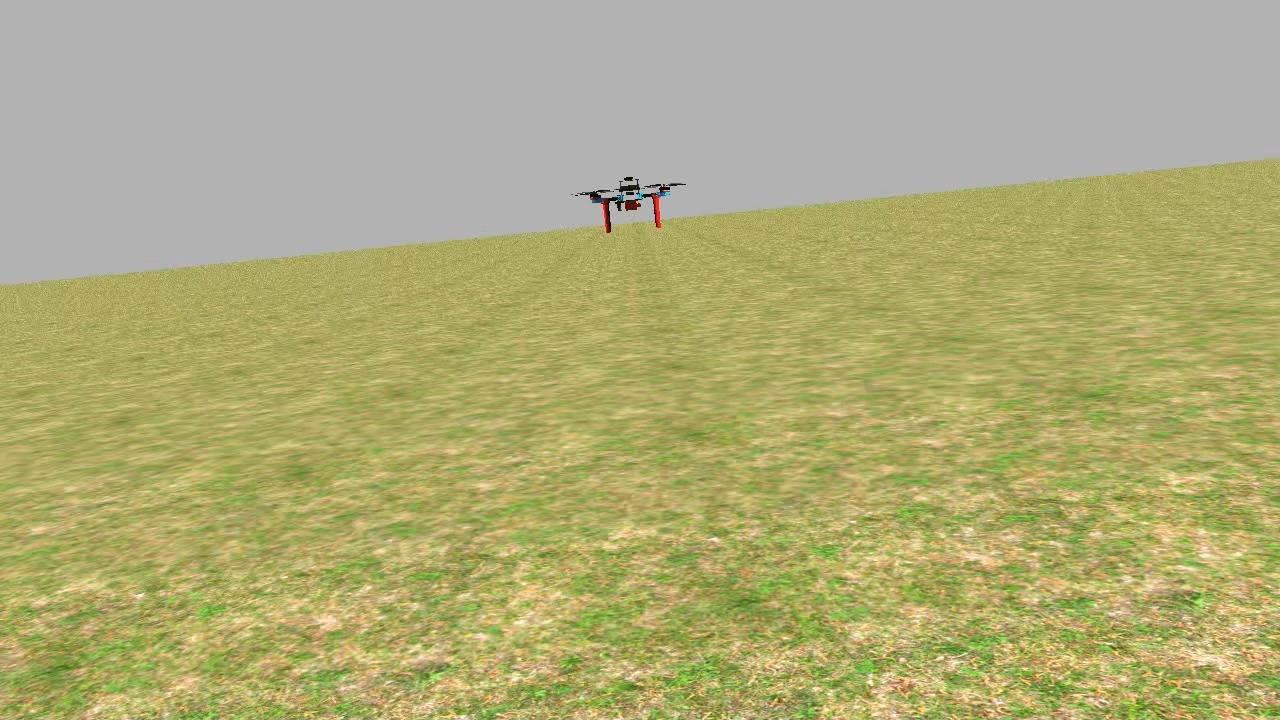UAV: (572, 170, 682, 242)
